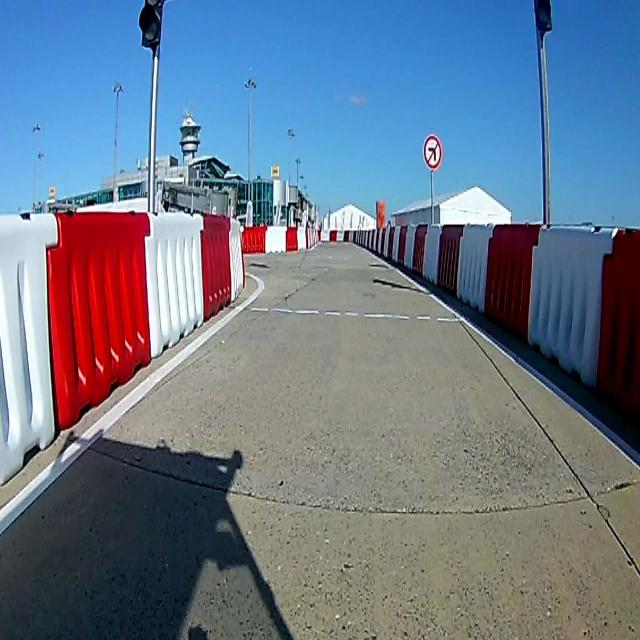soladonulmez: (422, 132, 444, 172)
